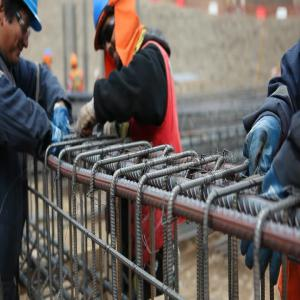blue: (93, 2, 132, 70), (2, 2, 41, 64)
